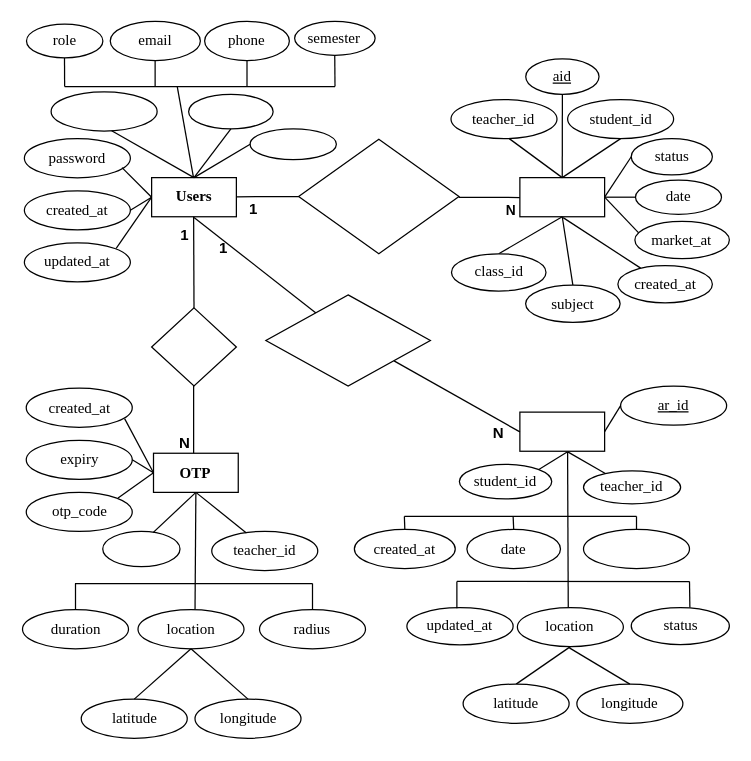
This 751x761 diagram has some shape labels left out. Each missing label, with the box of its shape:
Attendance: (519, 176, 605, 217)
Attendance Requests: (519, 411, 605, 451)
Generates: (150, 307, 236, 386)
Makes: (265, 294, 430, 386)
name: (187, 93, 273, 129)
oid: (102, 530, 180, 567)
reason: (582, 528, 690, 568)
Records: (297, 138, 459, 254)
roll_no: (249, 128, 336, 160)
Uid: (50, 91, 157, 131)
